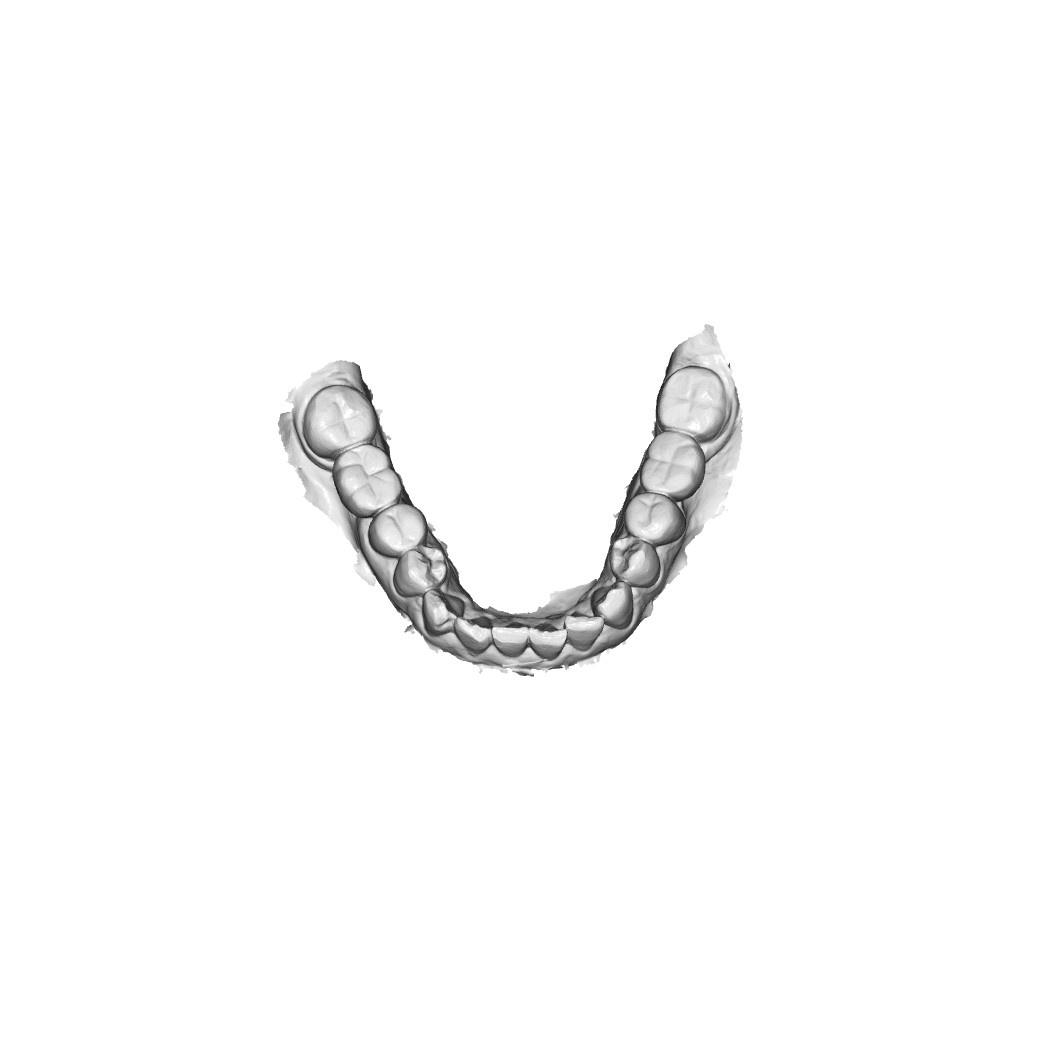canine: (588, 575, 639, 627), (420, 593, 456, 631)
incisor: (525, 620, 572, 660), (565, 612, 605, 648), (488, 621, 529, 652), (454, 616, 489, 651)
molar: (300, 383, 380, 454), (657, 366, 730, 438), (334, 447, 403, 512), (638, 433, 707, 498)
premolar: (605, 533, 660, 587), (395, 547, 455, 595), (627, 492, 685, 541), (376, 507, 424, 546)
